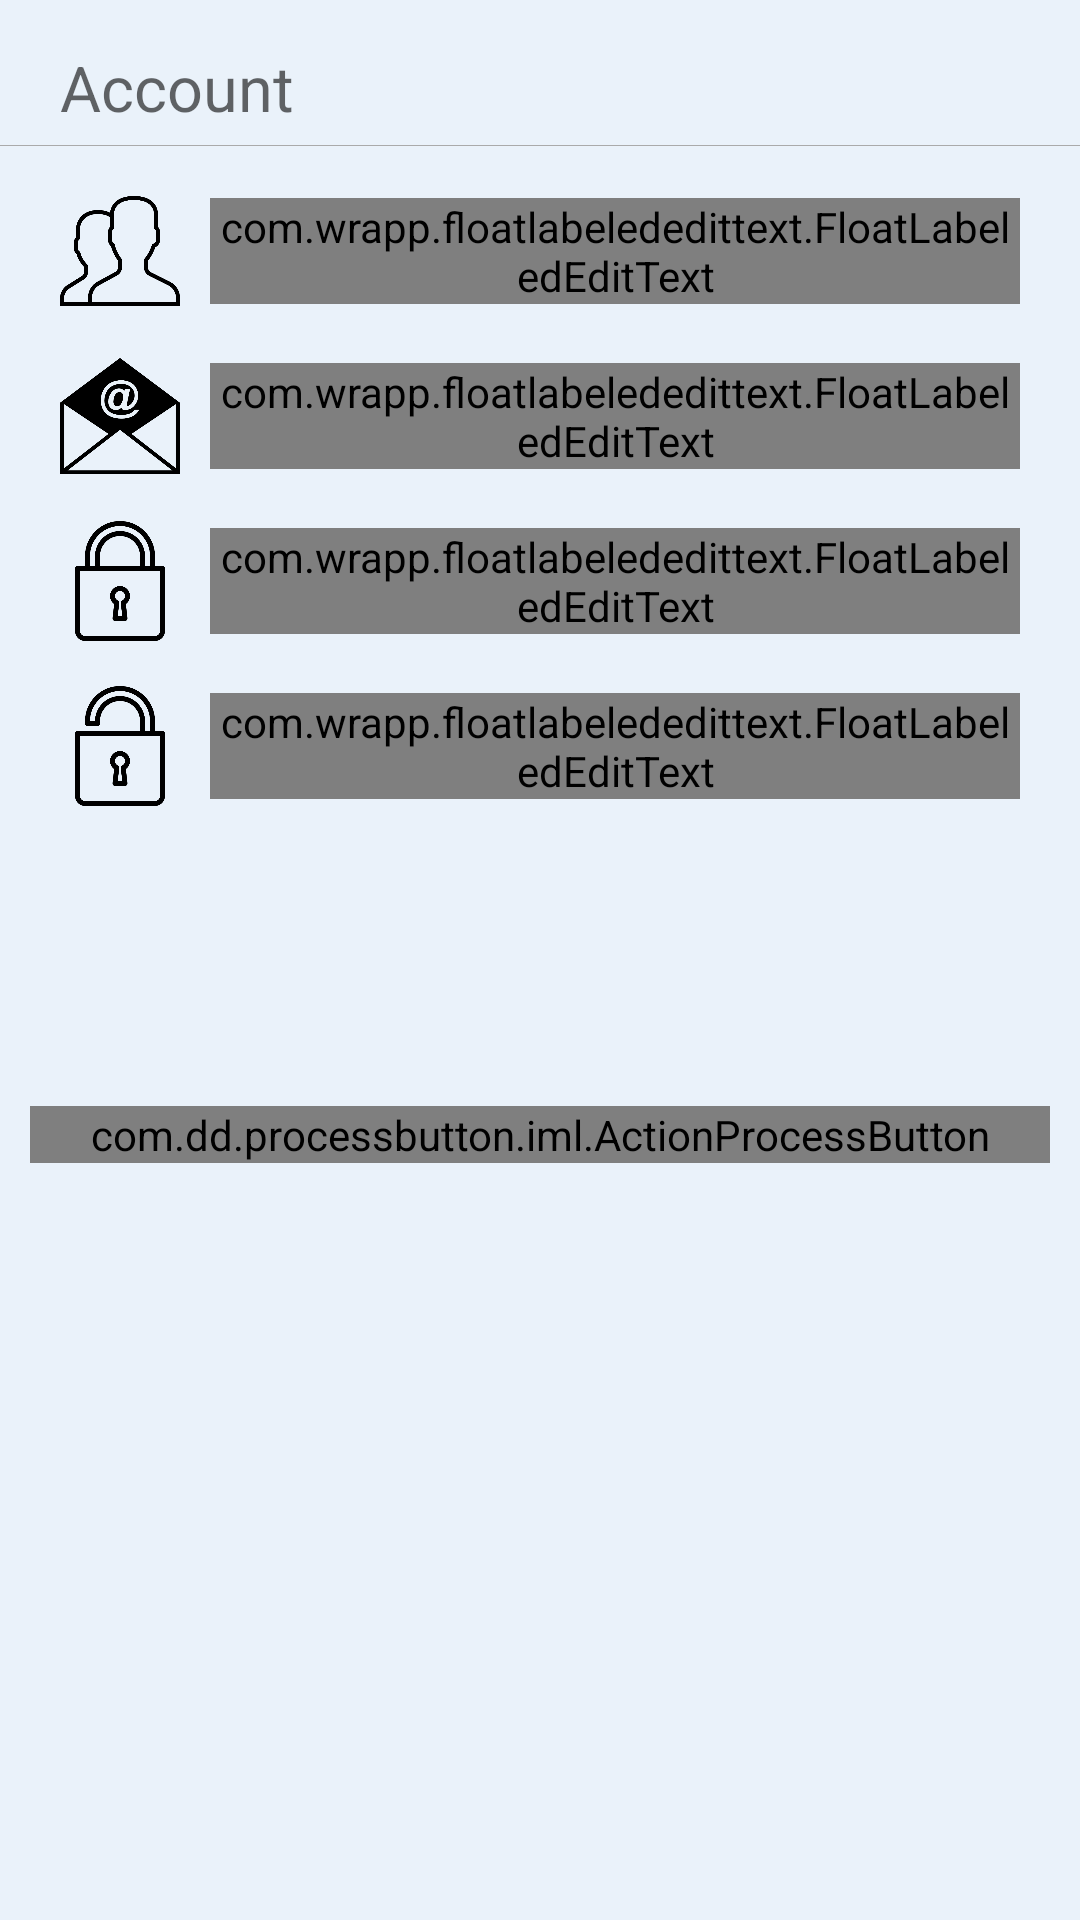

Icons on this 1080px x 1920px Android screen, each with its box as (x1, y1, x2, y2):
opened email envelope: (60, 358, 180, 474)
password: (75, 521, 165, 641)
users: (60, 196, 180, 306)
